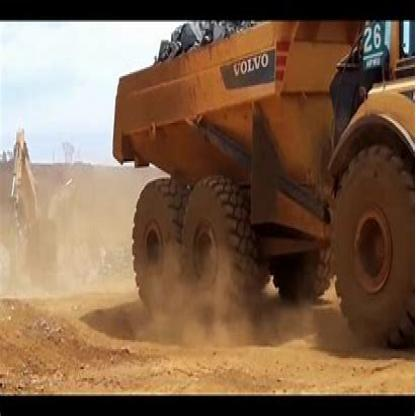dump_truck: (113, 20, 415, 349)
